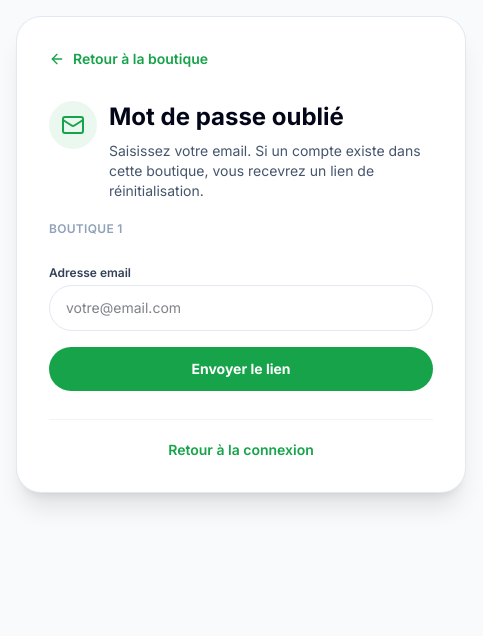
Test: tenant storefront recovery › submits forgot-password with the store loaded from the tenant host and keeps the response generic
Expected: the text "Boutique 1" is shown, [49,221,123,236]
Type "buyer@test.com" into the field labelled "Adresse email".
click(241, 308); type("buyer@test.com")  # box [49,285,433,331]
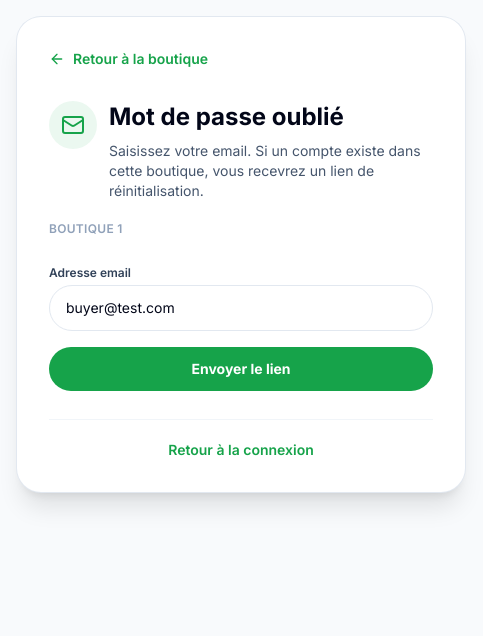
Click the button "Envoyer le lien".
click(241, 369)  # box [49,347,433,391]
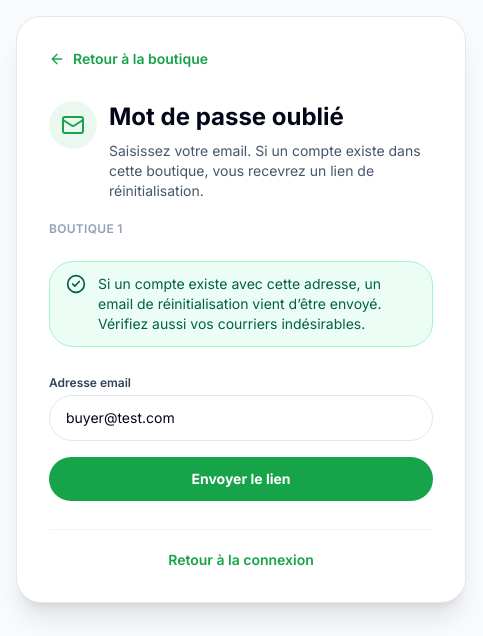
Expected: the message shows "Si un compte existe", [98,275,382,332]
